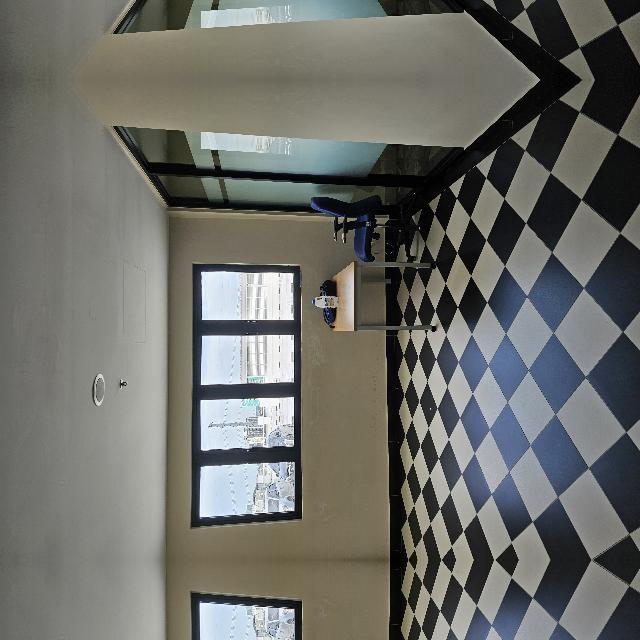obstacle: (222, 384, 371, 510), (221, 610, 370, 640)
